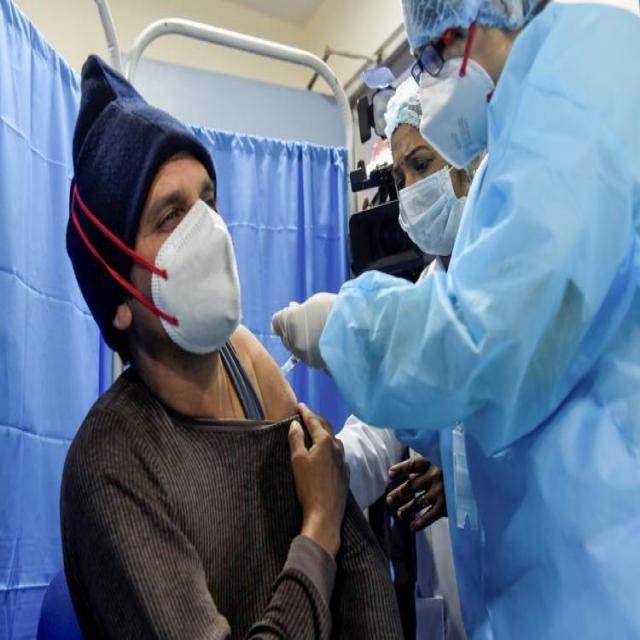Mask: (147, 192, 245, 351), (412, 67, 494, 165), (392, 166, 469, 260)
